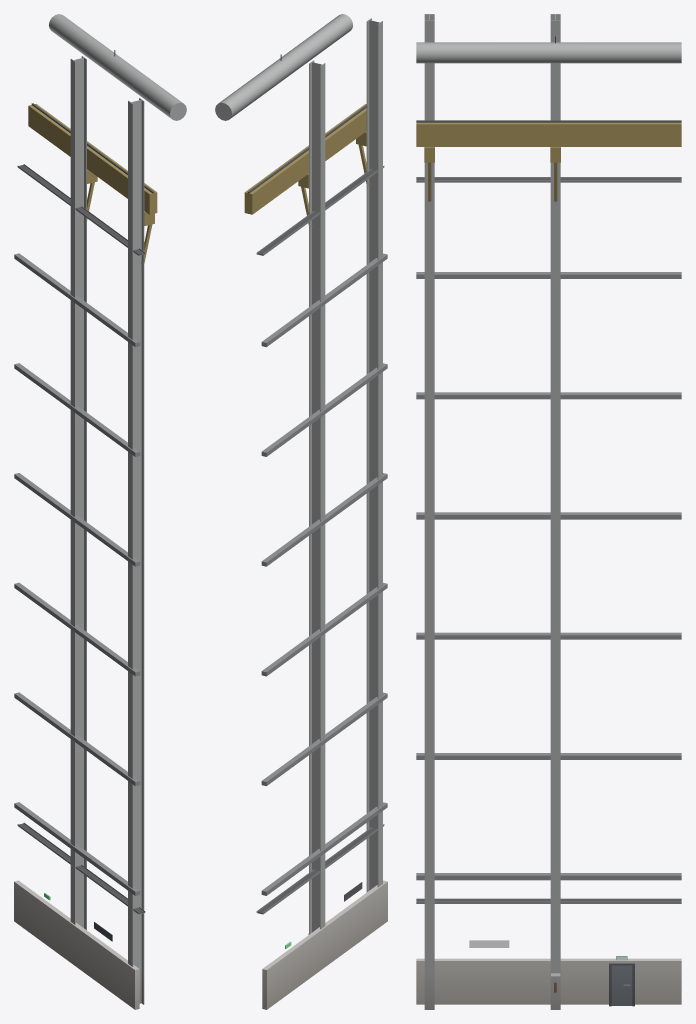
Rendered from wall_w_s.glb.
3 views of the same model, side by side, from view 1: azimuth 30°, elevation 25°; view 2: azimuth 150°, elevation 25°; view 3: azimuth 270°, elevation 25° (orthographic). The views are drawn at different scales.
Parts seen in each view (by area): view 1: wall_w_s; view 2: wall_w_s; view 3: wall_w_s.
Part boxes in pixels (x1,y1,x2,y2): wall_w_s: (14, 14, 186, 1009); wall_w_s: (215, 14, 387, 1009); wall_w_s: (416, 14, 681, 1009).
Size of the model in its own units: 3.95 by 65.85 by 16.
